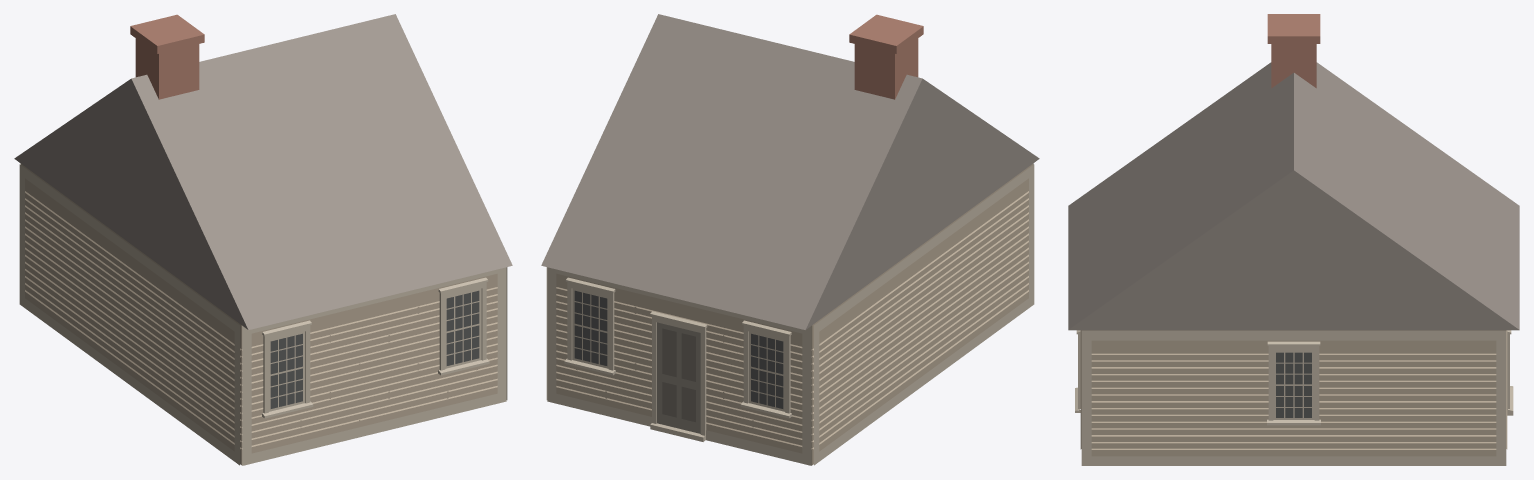
Rendered from wright_building_to_let_a__documented_1835.glb.
The picture shows the model from 3 angles, left to right: view 1: azimuth 30°, elevation 25°; view 2: azimuth 150°, elevation 25°; view 3: azimuth 270°, elevation 25°; orthographic projection. The views are drawn at different scales.
Parts seen in each view (by area): view 1: wright_building_to_let_a__documented_1835; view 2: wright_building_to_let_a__documented_1835; view 3: wright_building_to_let_a__documented_1835.
Boxes of the visible parts, box(x1,y1,x2,y2) form: wright_building_to_let_a__documented_1835: box(14, 14, 512, 465); wright_building_to_let_a__documented_1835: box(541, 14, 1039, 465); wright_building_to_let_a__documented_1835: box(1068, 14, 1519, 465).
Size of the model in its own units: 5.64 by 6.85 by 8.43.
